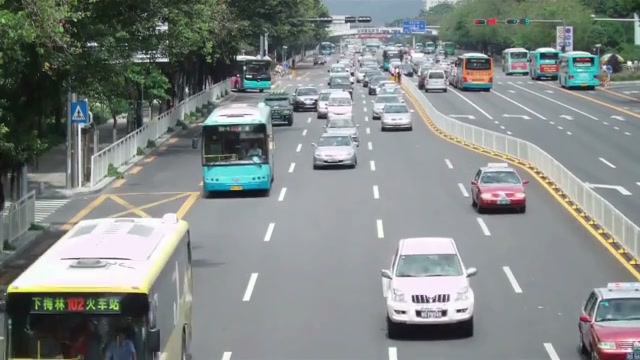bus: (4, 213, 194, 357), (200, 101, 276, 197), (558, 50, 601, 89), (457, 52, 494, 91), (237, 56, 273, 92), (529, 47, 560, 80), (502, 48, 530, 76)
car: (380, 237, 478, 338), (577, 282, 640, 359), (469, 166, 528, 214), (312, 133, 358, 169), (324, 115, 360, 147), (380, 103, 413, 132), (324, 91, 354, 122), (372, 94, 409, 119), (293, 86, 319, 111), (424, 70, 448, 93)
pedestrian: (67, 320, 102, 359), (104, 325, 138, 360)
